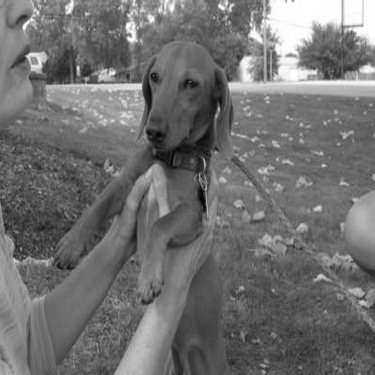dog: (51, 37, 241, 375)
